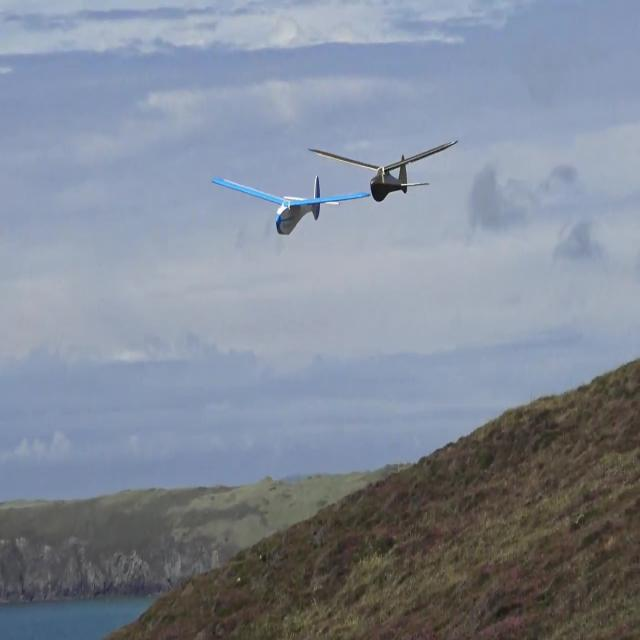iha: (210, 174, 371, 237), (307, 170, 459, 172)
